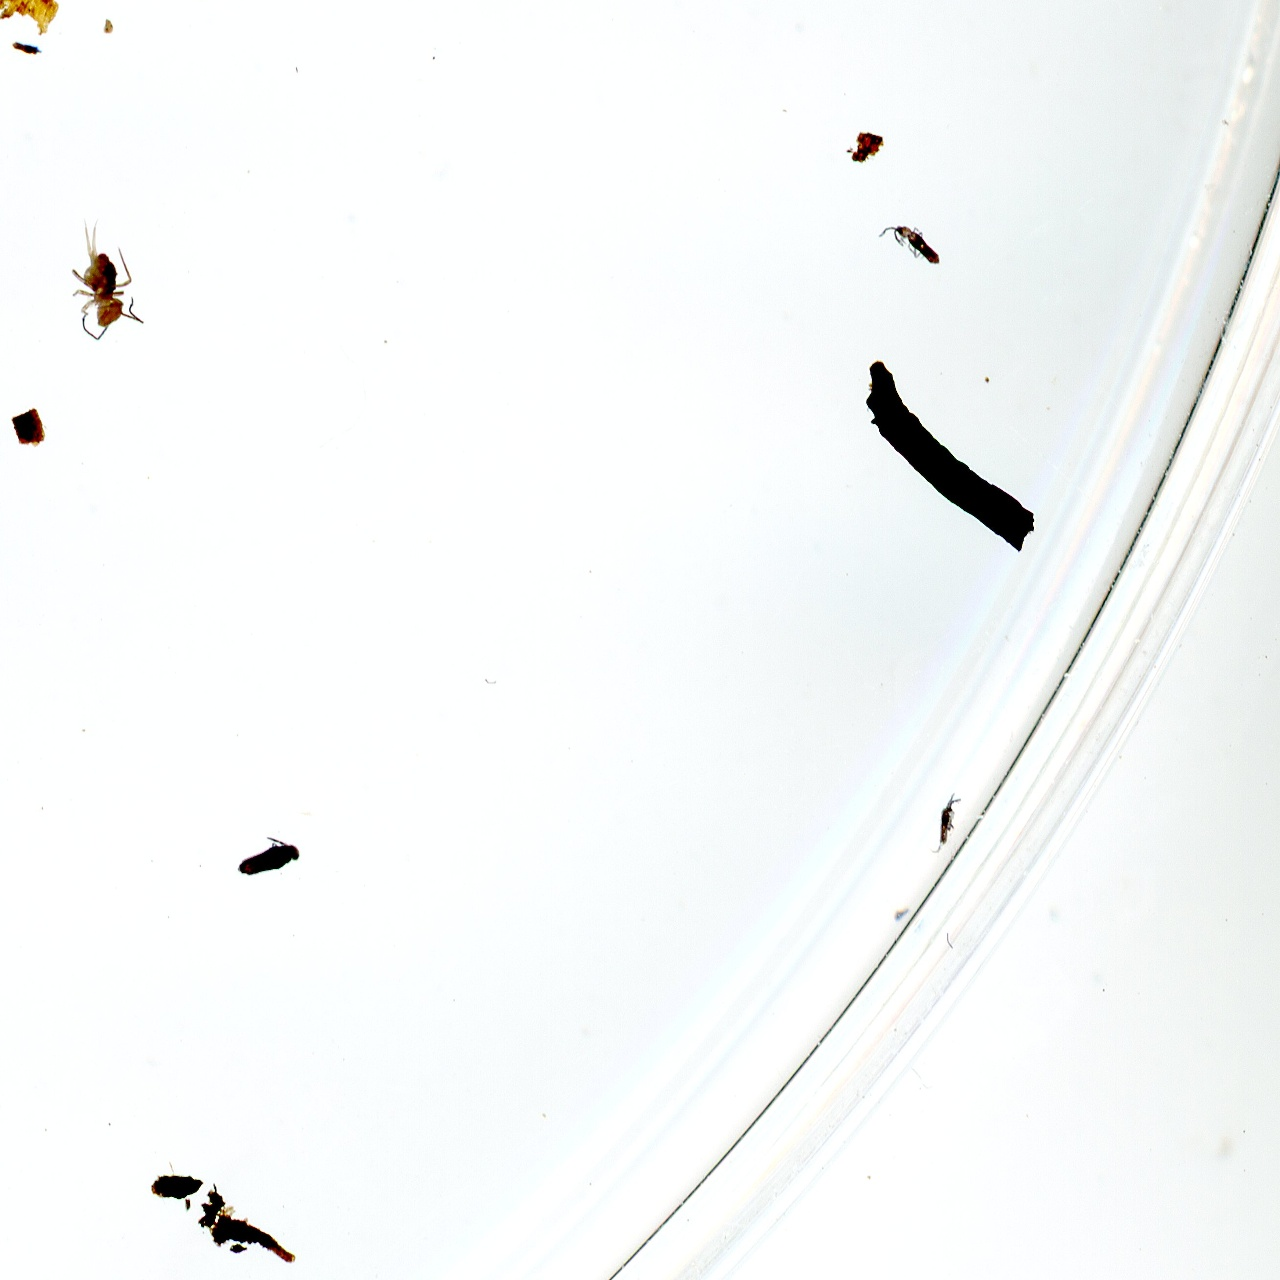arthropod: (66, 211, 142, 339), (872, 205, 955, 286), (226, 825, 306, 887), (926, 790, 965, 857)
